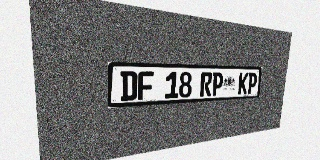1: (165, 72, 179, 99)
8: (179, 72, 192, 98)
D: (120, 71, 137, 101)
F: (138, 71, 154, 100)
K: (238, 73, 249, 94)
P: (211, 72, 224, 96), (247, 73, 257, 94)
R: (200, 72, 213, 97)
